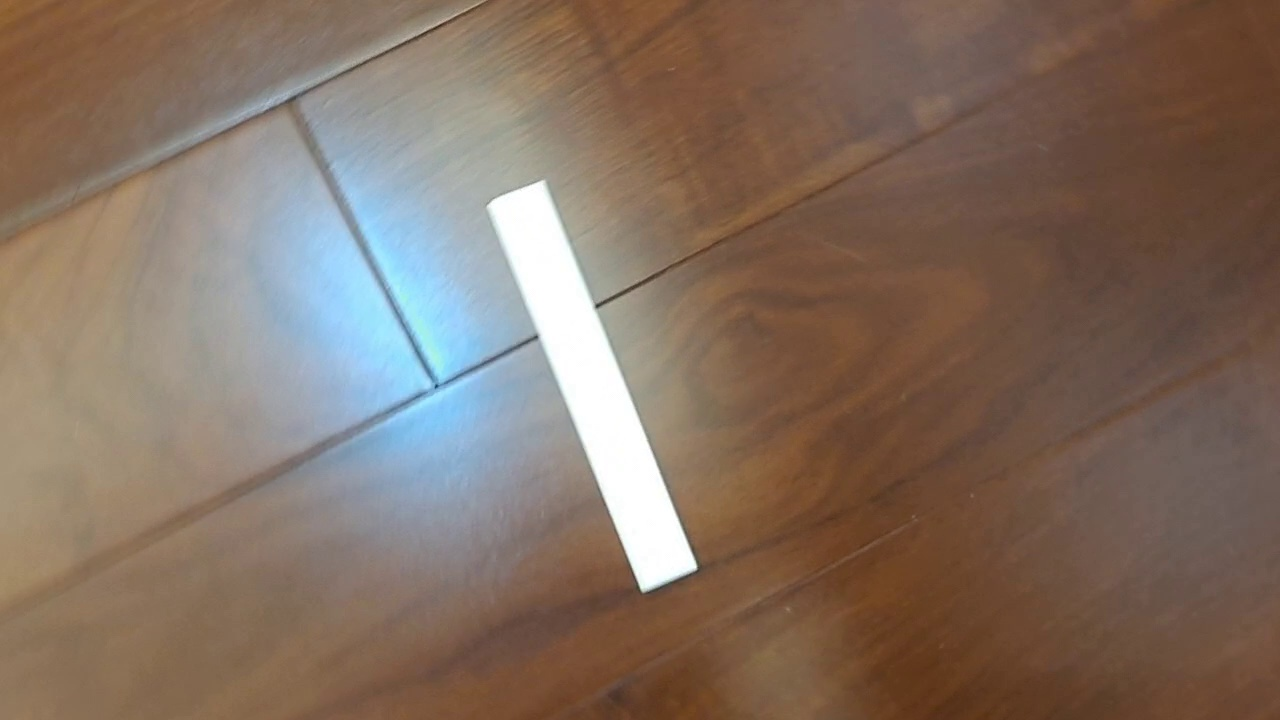ruler: (485, 178, 699, 595)
